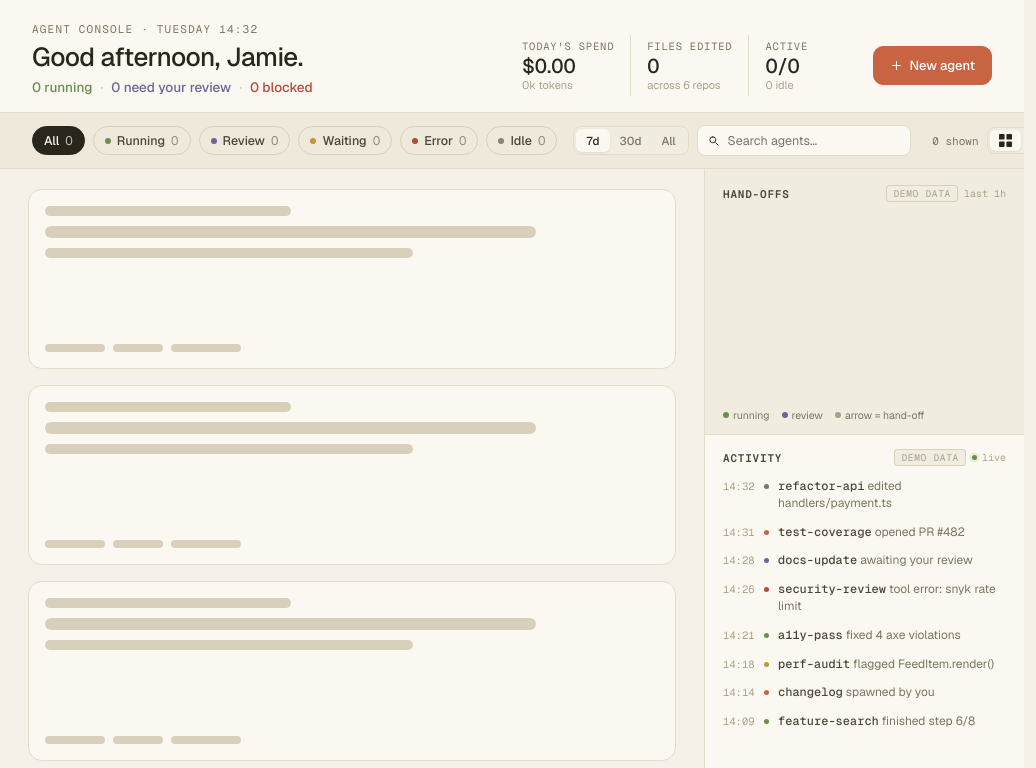
Test: App › 2. 검색어 "refactor" 입력 → filtered 줄어듦
Expected: the text "0 shown" is shown, [932, 134, 978, 148]
Type "refactor" into the field with placeholder "Search agents…" at {"x": 812, "y": 140}, box [726, 131, 900, 150]
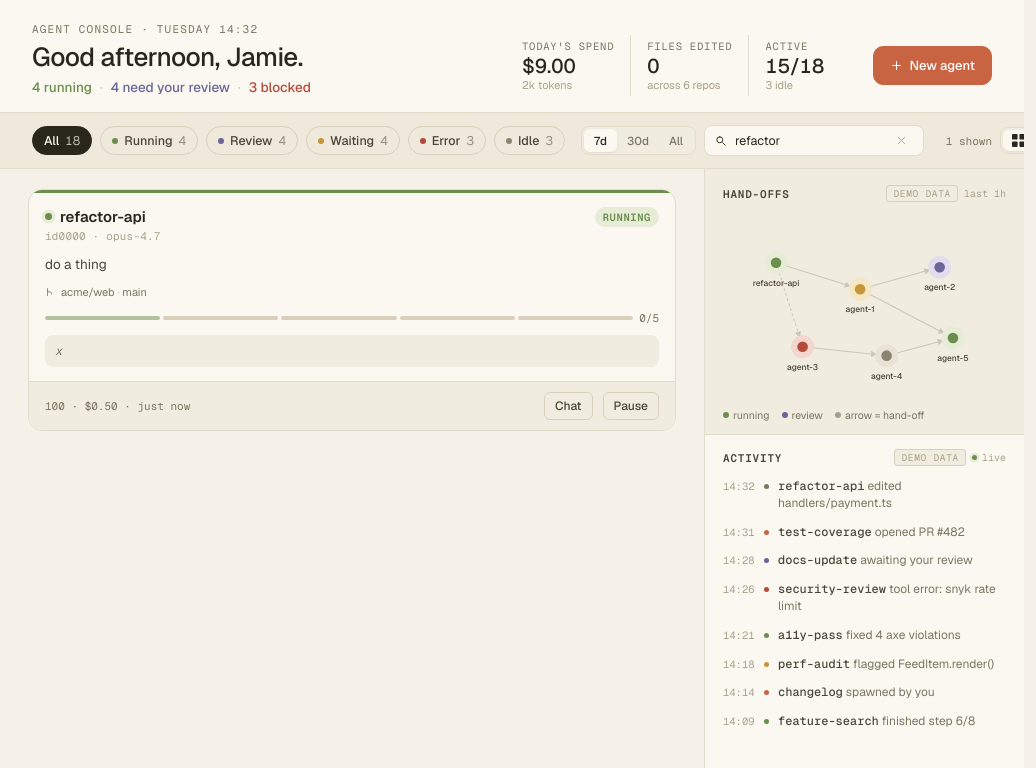
Now the text "1 shown" is shown, box [946, 134, 992, 148]
